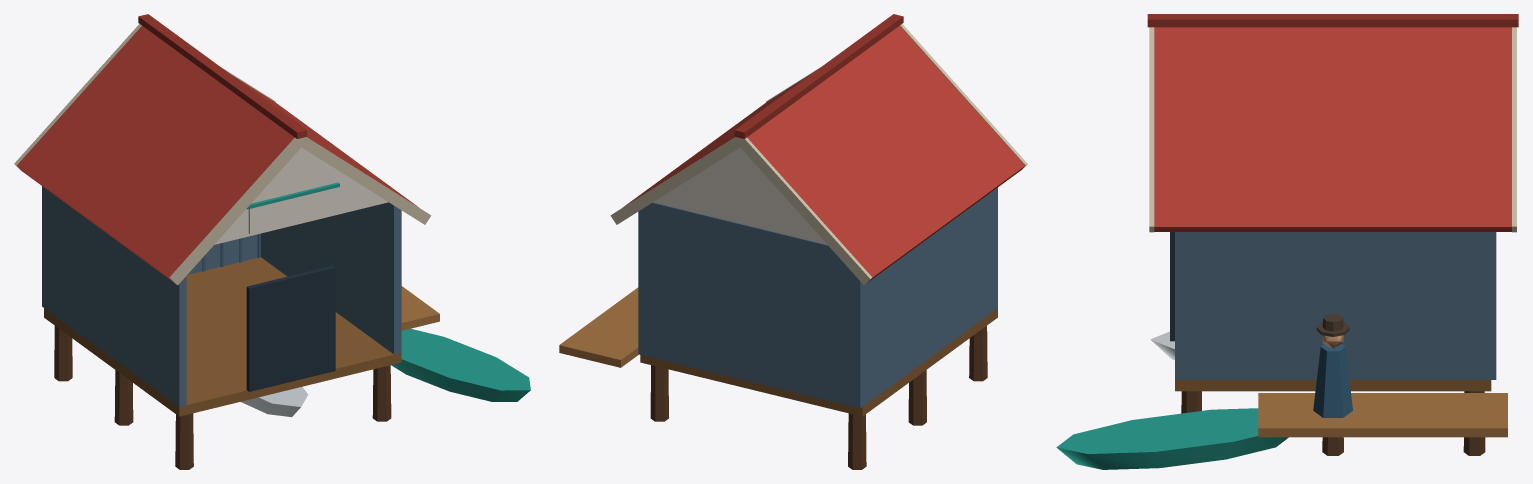
Rendered from boathouse.glb.
The picture shows the model from 3 angles, left to right: view 1: azimuth 30°, elevation 25°; view 2: azimuth 150°, elevation 25°; view 3: azimuth 270°, elevation 25°; orthographic projection. The views are drawn at different scales.
Parts seen in each view (by area): view 1: town-boathouse; view 2: town-boathouse; view 3: town-boathouse.
Boxes of the visible parts, x1,y1,x2,y2 form: town-boathouse: (14, 14, 530, 469); town-boathouse: (559, 14, 1027, 469); town-boathouse: (1056, 14, 1518, 469).
Bounding box in the file's own units: 5.37 × 5.03 × 5.56.
